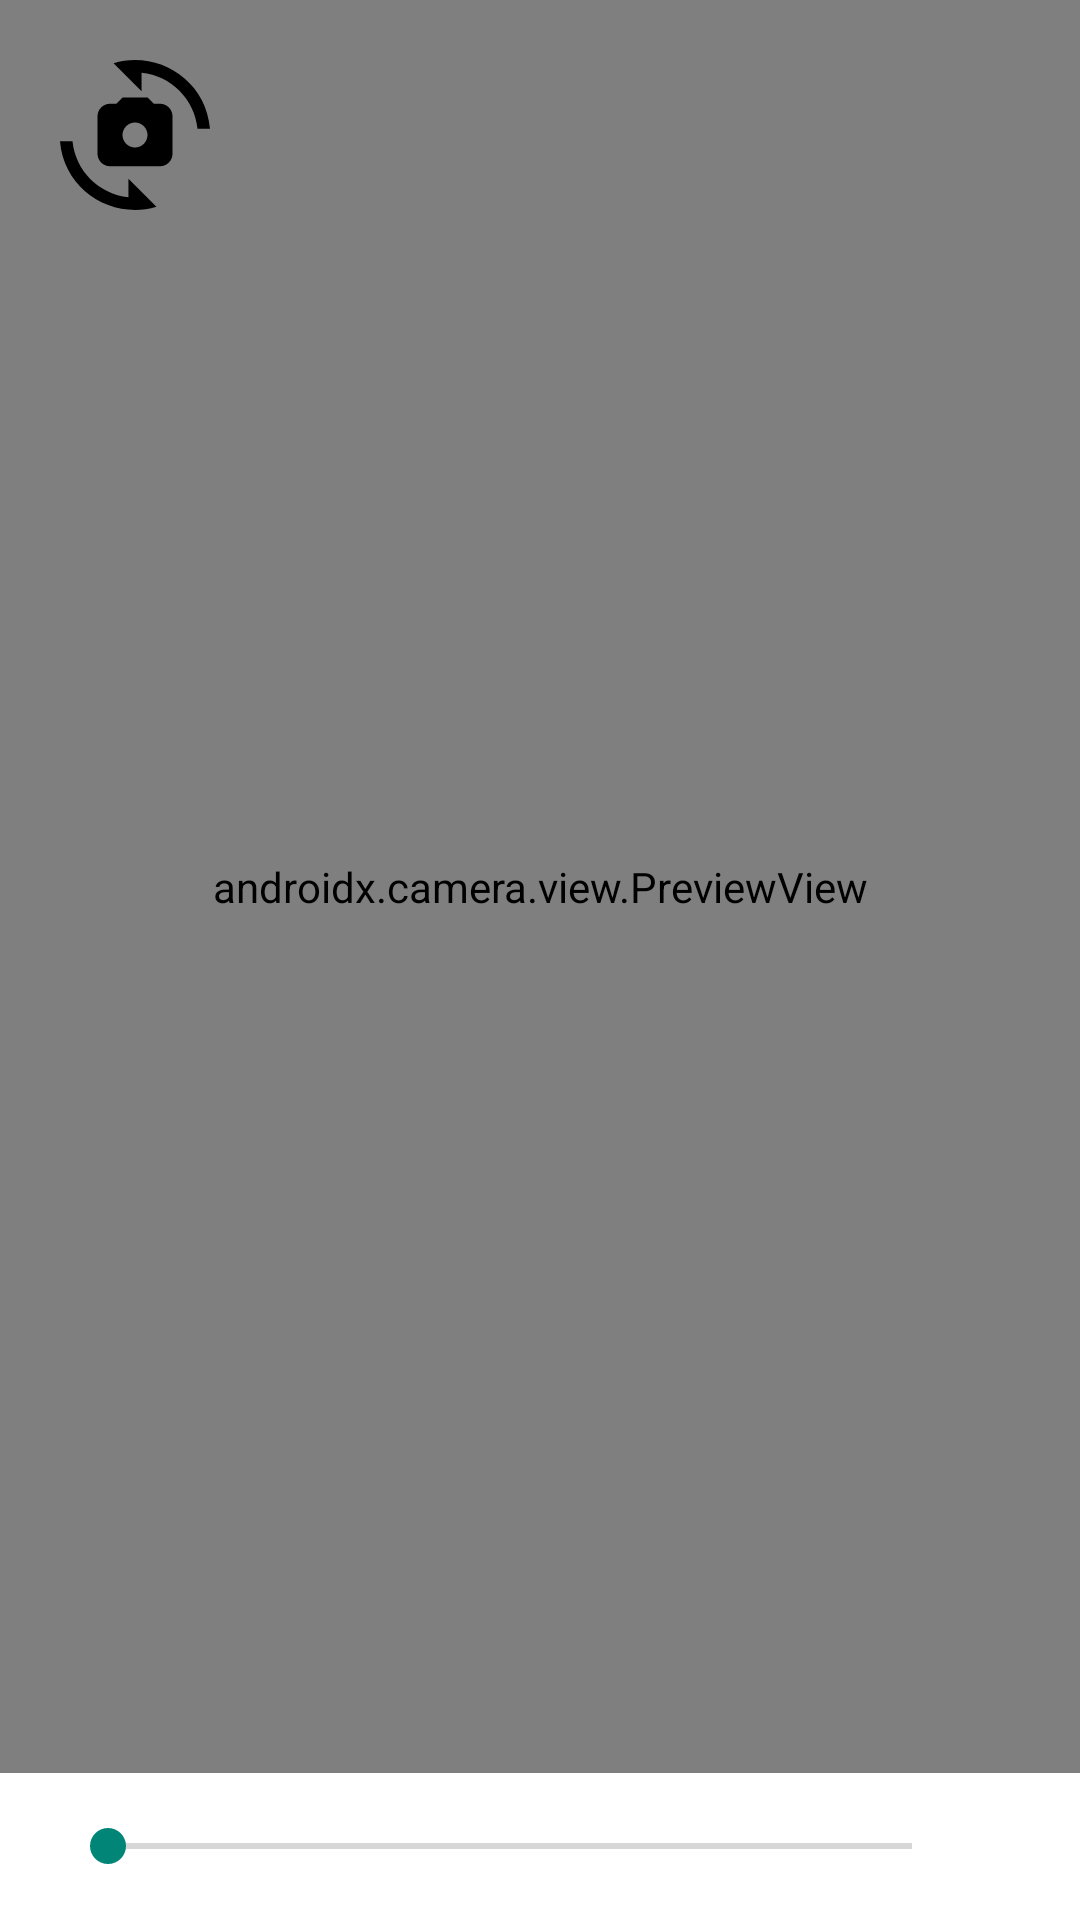

Screen size 1080 x 1920. Icon name, then its center in pixels as [x,y]:
switch cam: [135,135]
